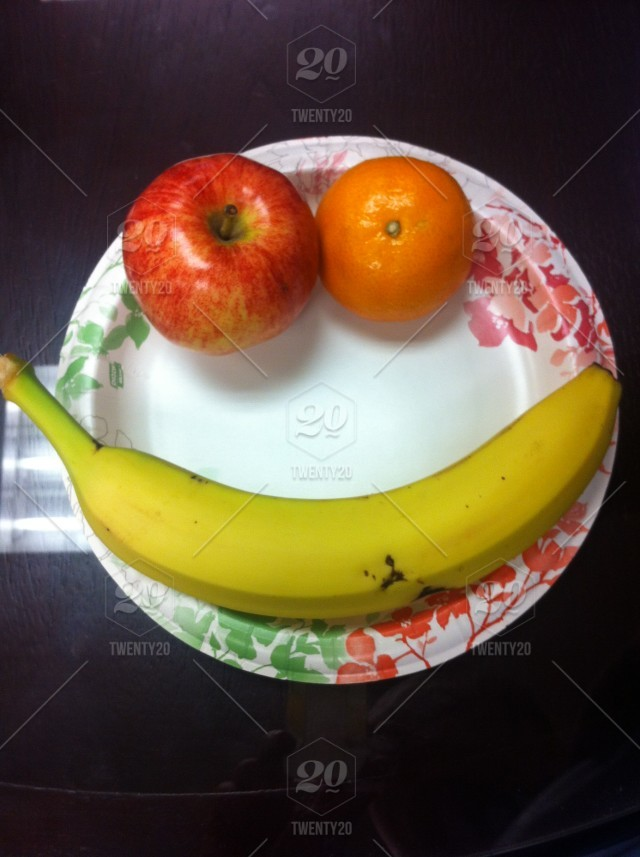apple: (127, 148, 320, 371)
banana: (73, 366, 618, 619)
orange: (313, 153, 478, 348)
